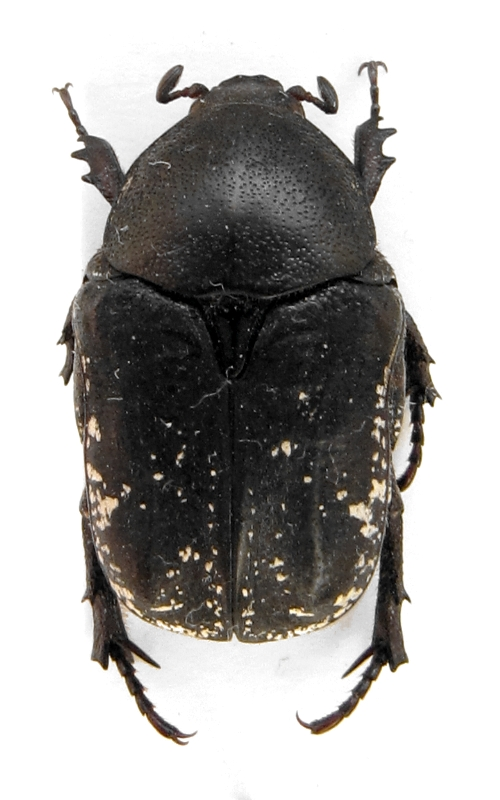Protaetia_oblonga: (39, 42, 452, 752)
